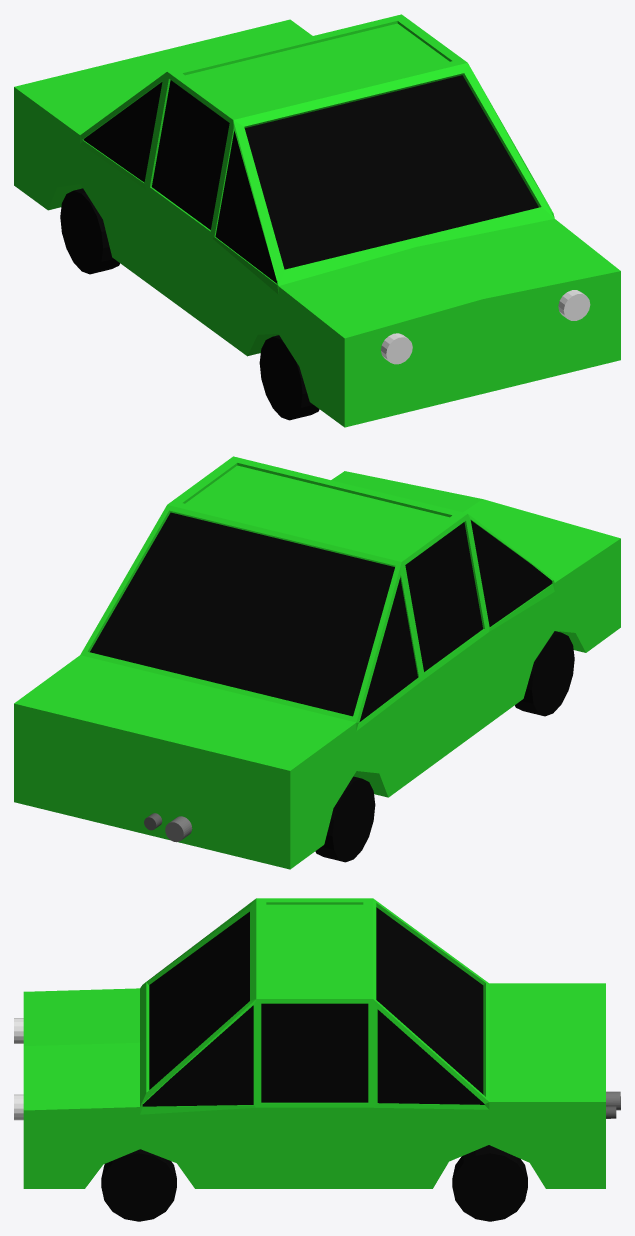
Rendered from CarGreenStage1.fbx.
The picture shows the model from 3 angles, top to bottom: view 1: azimuth 30°, elevation 25°; view 2: azimuth 150°, elevation 25°; view 3: azimuth 270°, elevation 25°; orthographic projection. The views are drawn at different scales.
Visible parts, largest first — view 1: Car, wheels, Headlights; view 2: Car, wheels; view 3: Car, wheels, Headlights.
Part boxes in pixels (left/top/right/bottom): Car: left=14, top=14, right=620, bottom=427; wheels: left=60, top=188, right=319, bottom=420; Headlights: left=381, top=290, right=590, bottom=364; Car: left=14, top=456, right=620, bottom=869; wheels: left=315, top=631, right=574, bottom=862; Car: left=23, top=898, right=605, bottom=1188; wheels: left=101, top=1145, right=527, bottom=1221; Headlights: left=14, top=1018, right=23, bottom=1120.
Bounding box in the file's own units: 493 × 415 × 1063.
